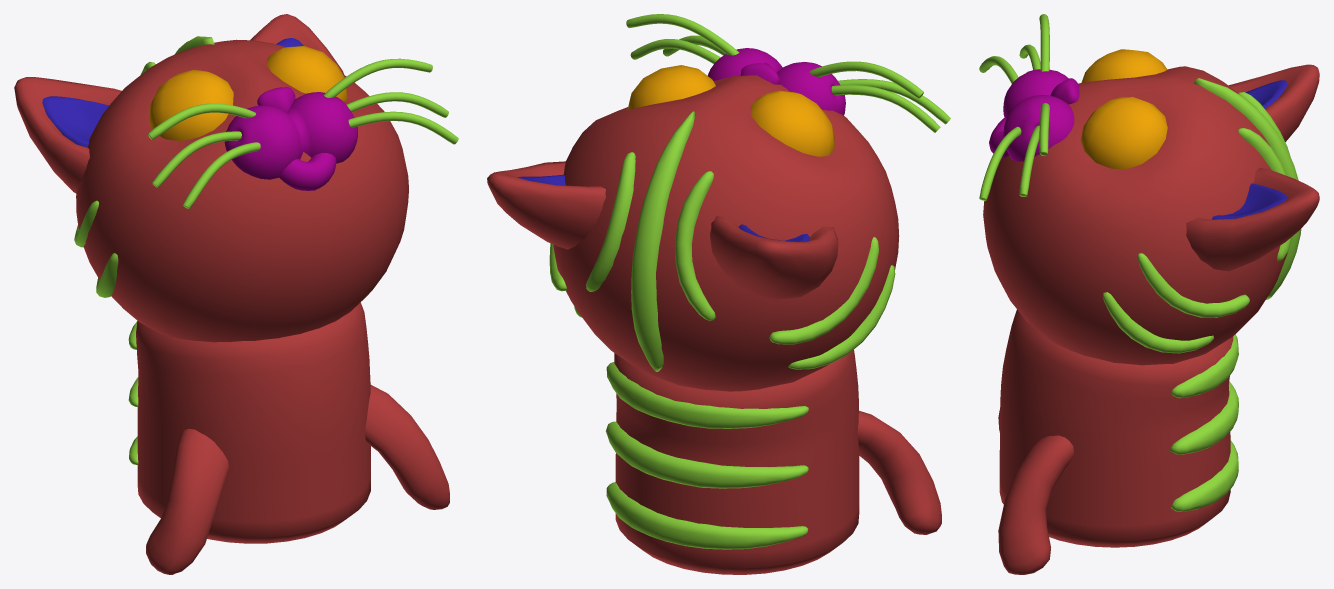
Rendered from CHAR_longCat_head.fbx.
The picture shows the model from 3 angles, left to right: view 1: azimuth 30°, elevation 25°; view 2: azimuth 150°, elevation 25°; view 3: azimuth 270°, elevation 25°; orthographic projection. The views are drawn at different scales.
Visible parts, largest first — view 1: cat_head, eye_l; view 2: cat_head, eye_l; view 3: cat_head, eye_l.
Boxes of the visible parts, box(x1,y1,x2,y2) form: cat_head: box(14, 14, 458, 574); eye_l: box(149, 46, 347, 140); cat_head: box(487, 14, 950, 574); eye_l: box(627, 65, 834, 156); cat_head: box(979, 14, 1319, 574); eye_l: box(1080, 49, 1167, 168).
Size of the model in its own units: 3.31 by 3.28 by 4.69.
